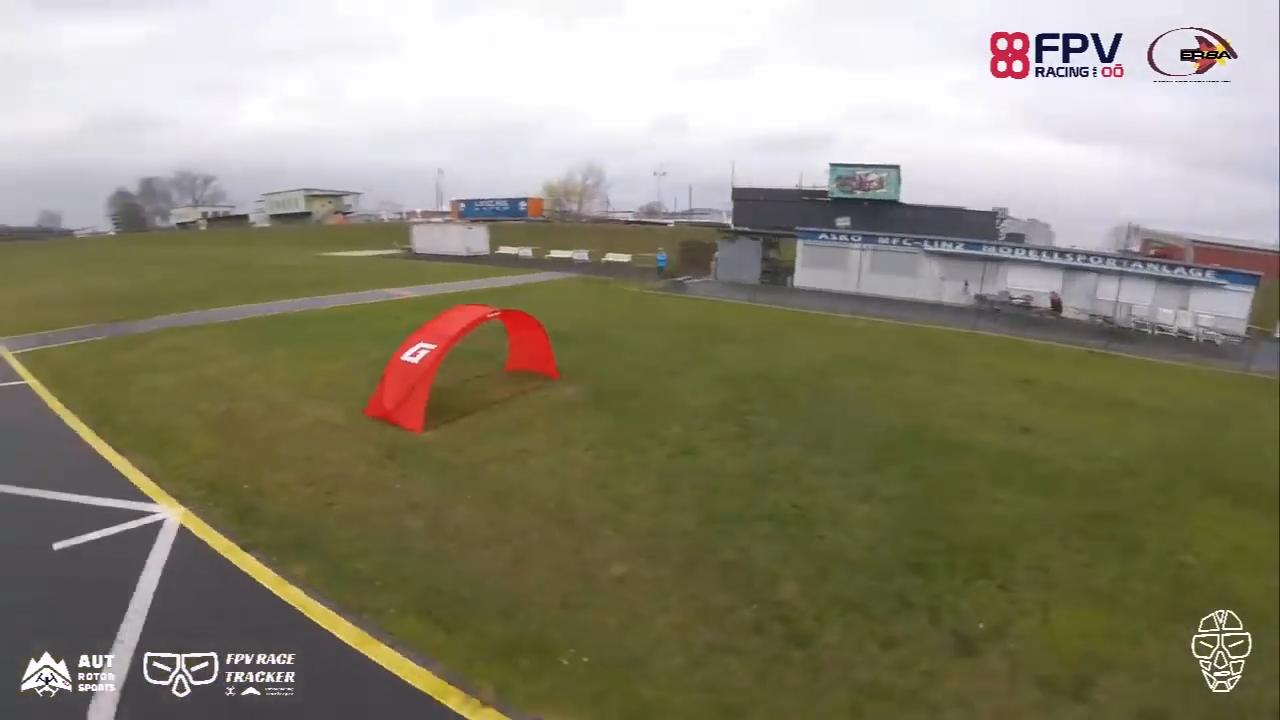gate: (358, 299, 564, 439)
